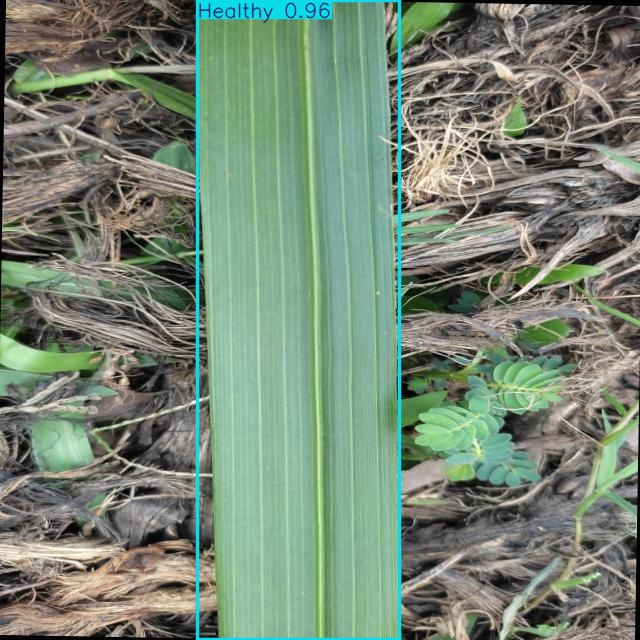Healthy: (197, 0, 399, 640)
